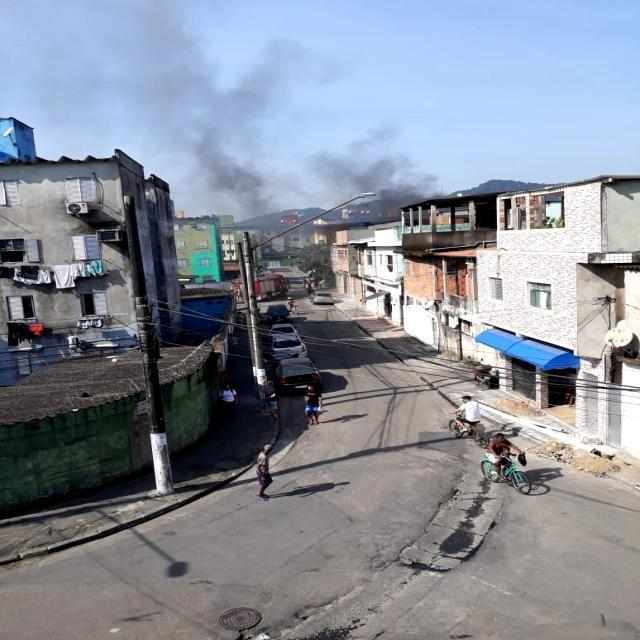Smoke: (106, 15, 302, 252), (307, 114, 462, 220)
